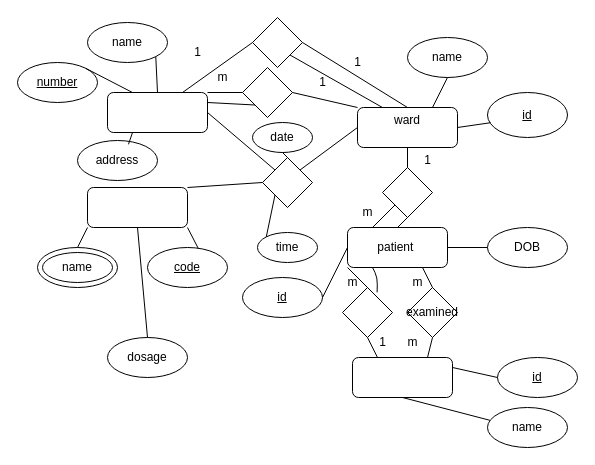
This 595x465 diagram has some shape labels left out. The shapes that lost their labels are listed below. From the top down, each one's centre as x and y in pixels, then its label:
At (277,42): "supervise".
At (157,112): "nurse".
At (267,92): "serve".
At (287,182): "gives".
At (407,192): "has".
At (137,207): "drug".
At (367,312): "assigned".
At (402,377): "consultant".
